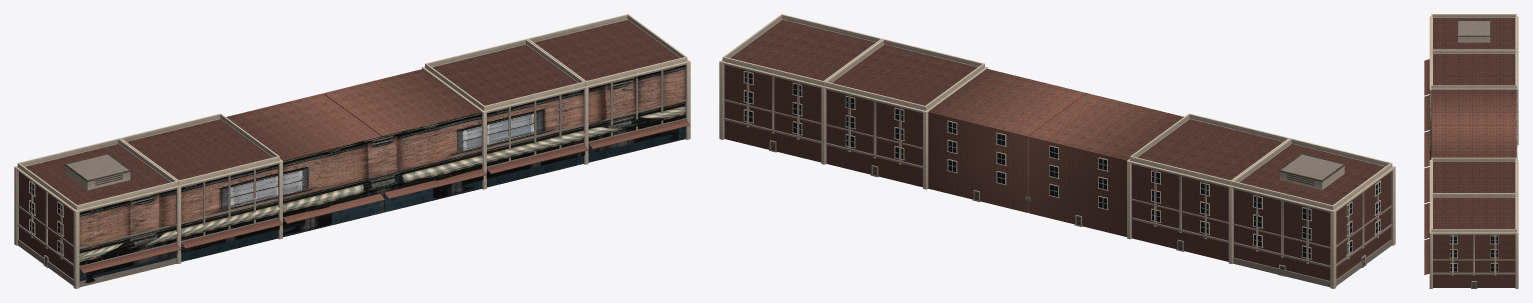
File: woodward-row_lod0.gltf
3 views of the same model, side by side, from view 1: azimuth 30°, elevation 25°; view 2: azimuth 150°, elevation 25°; view 3: azimuth 270°, elevation 25° (orthographic). The views are drawn at different scales.
Visible parts, largest first — view 1: woodward-row_front, woodward-row__v4_stone_detail, woodward-row_unit0, woodward-row_unit3, woodward-row_unit2, woodward-row_unit4, woodward-row_unit5, woodward-row_unit1, woodward-row__awning1, woodward-row__awning5, woodward-row__awning0, woodward-row__storefront1 (+8 smaller); view 2: woodward-row__v4_stone_detail, woodward-row_unit3, woodward-row_unit2, woodward-row_unit0, woodward-row_unit5, woodward-row_unit4, woodward-row_unit1, woodward-row_fen_04-limestone_0, woodward-row_fen_07-glass-curtain-blue_5_t; view 3: woodward-row_unit5, woodward-row__v4_stone_detail, woodward-row_unit2, woodward-row_unit3, woodward-row_unit1, woodward-row_unit4, woodward-row_unit0, woodward-row_fen_04-limestone_0, woodward-row_fen_07-glass-curtain-blue_5_t, woodward-row__awning0, woodward-row__awning1, woodward-row__awning2 (+5 smaller).
Part boxes in pixels (left/top/right/bottom): woodward-row_front: left=79, top=65, right=685, bottom=282; woodward-row__v4_stone_detail: left=14, top=14, right=690, bottom=288; woodward-row_unit0: left=19, top=144, right=170, bottom=278; woodward-row_unit3: left=323, top=69, right=480, bottom=136; woodward-row_unit2: left=226, top=93, right=380, bottom=160; woodward-row_unit4: left=432, top=45, right=577, bottom=105; woodward-row_unit5: left=534, top=20, right=679, bottom=80; woodward-row_unit1: left=127, top=119, right=271, bottom=180; woodward-row__awning1: left=181, top=218, right=282, bottom=248; woodward-row__awning5: left=588, top=119, right=690, bottom=149; woodward-row__awning0: left=79, top=243, right=181, bottom=273; woodward-row__storefront1: left=181, top=230, right=278, bottom=261; woodward-row__v4_stone_detail: left=719, top=14, right=1395, bottom=288; woodward-row_unit3: left=928, top=69, right=1086, bottom=212; woodward-row_unit2: left=1028, top=93, right=1183, bottom=236; woodward-row_unit0: left=1234, top=144, right=1390, bottom=280; woodward-row_unit5: left=724, top=20, right=875, bottom=162; woodward-row_unit4: left=826, top=45, right=977, bottom=187; woodward-row_unit1: left=1132, top=119, right=1282, bottom=261; woodward-row_fen_04-limestone_0: left=743, top=71, right=1381, bottom=270; woodward-row_fen_07-glass-curtain-blue_5_t: left=744, top=72, right=1379, bottom=258; woodward-row_unit5: left=1433, top=197, right=1515, bottom=287; woodward-row__v4_stone_detail: left=1429, top=14, right=1518, bottom=288; woodward-row_unit2: left=1431, top=89, right=1516, bottom=125; woodward-row_unit3: left=1431, top=125, right=1516, bottom=157; woodward-row_unit1: left=1433, top=54, right=1515, bottom=85; woodward-row_unit4: left=1433, top=161, right=1515, bottom=192; woodward-row_unit0: left=1433, top=18, right=1515, bottom=49; woodward-row_fen_04-limestone_0: left=1449, top=99, right=1517, bottom=287; woodward-row_fen_07-glass-curtain-blue_5_t: left=1450, top=236, right=1497, bottom=271; woodward-row__awning0: left=1424, top=59, right=1429, bottom=95; woodward-row__awning1: left=1424, top=95, right=1429, bottom=131; woodward-row__awning2: left=1424, top=131, right=1429, bottom=167.
Size of the model in its own units: 151 by 20.32 by 27.79.
